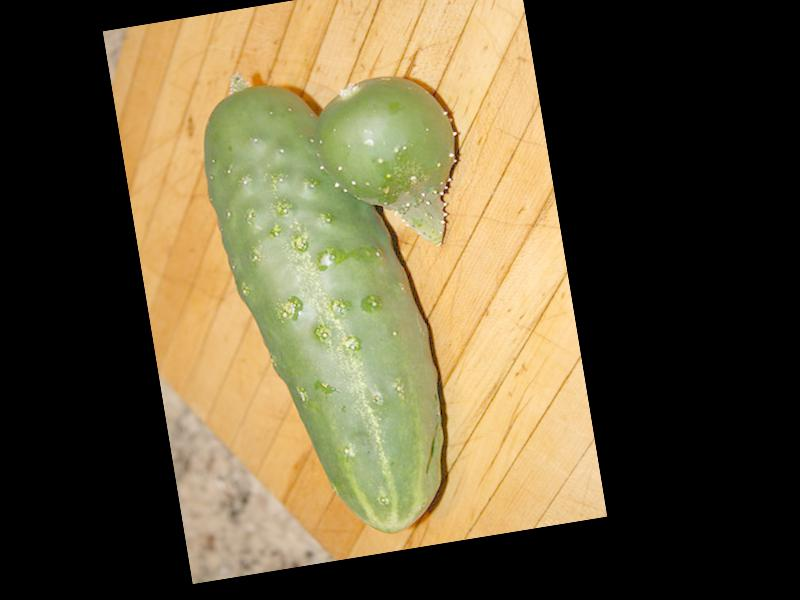Cucumber: (192, 64, 462, 554)
